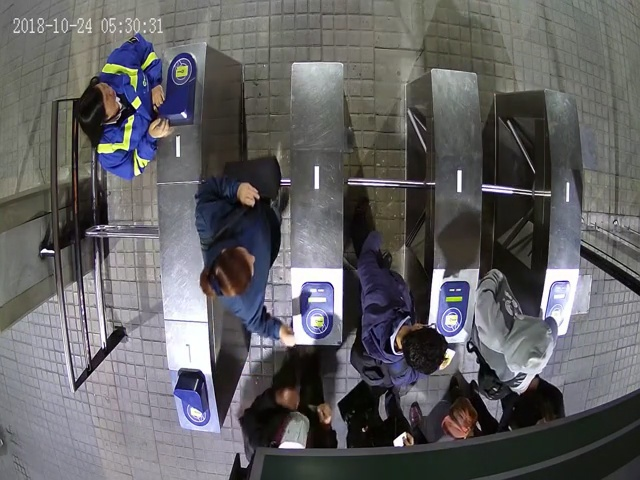Chaleco_azul: (75, 34, 170, 180)
